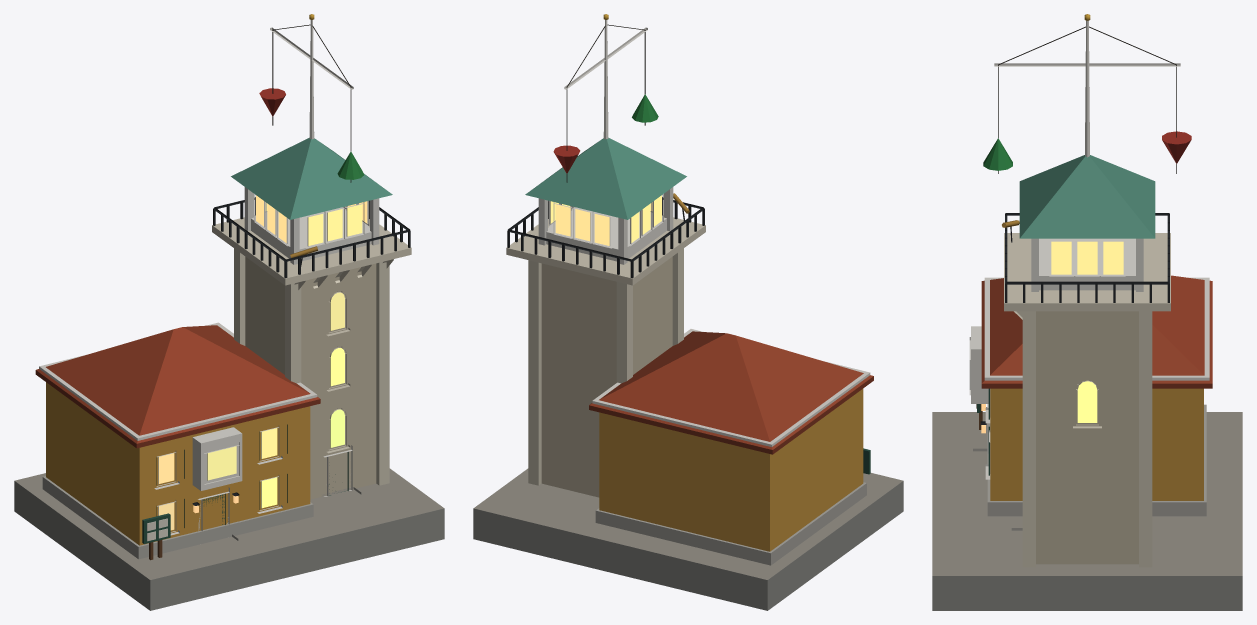
Rendered from harbourmaster.glb.
3 renders of one model, left to right at view 1: azimuth 30°, elevation 25°; view 2: azimuth 150°, elevation 25°; view 3: azimuth 270°, elevation 25°, orthographic. The views are drawn at different scales.
Visible parts, largest first — view 1: harbourmaster_body, harbourmaster_body_windows; view 2: harbourmaster_body, harbourmaster_body_windows; view 3: harbourmaster_body, harbourmaster_body_windows.
Part boxes in pixels (<box>): harbourmaster_body: <box>14,14,444,610</box>; harbourmaster_body_windows: <box>158,195,367,530</box>; harbourmaster_body: <box>473,14,903,610</box>; harbourmaster_body_windows: <box>550,195,661,245</box>; harbourmaster_body: <box>932,14,1242,610</box>; harbourmaster_body_windows: <box>1051,241,1123,422</box>.
Bounding box in the file's own units: 20 × 31.9 × 16.
